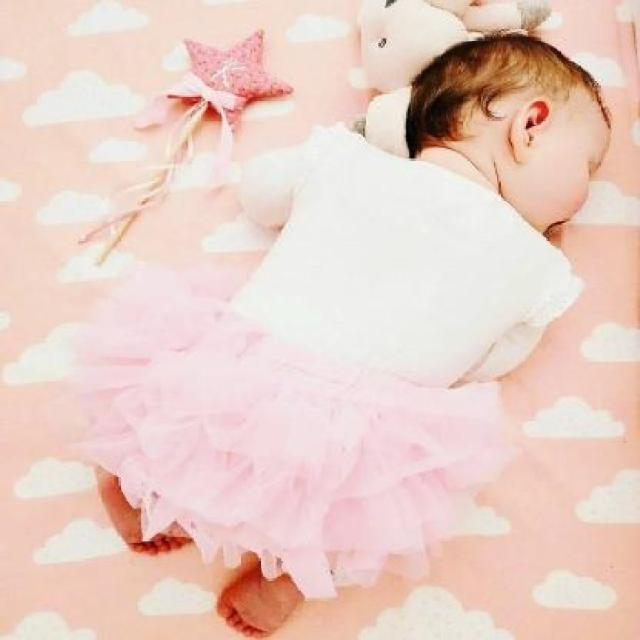baby: (94, 32, 611, 634)
